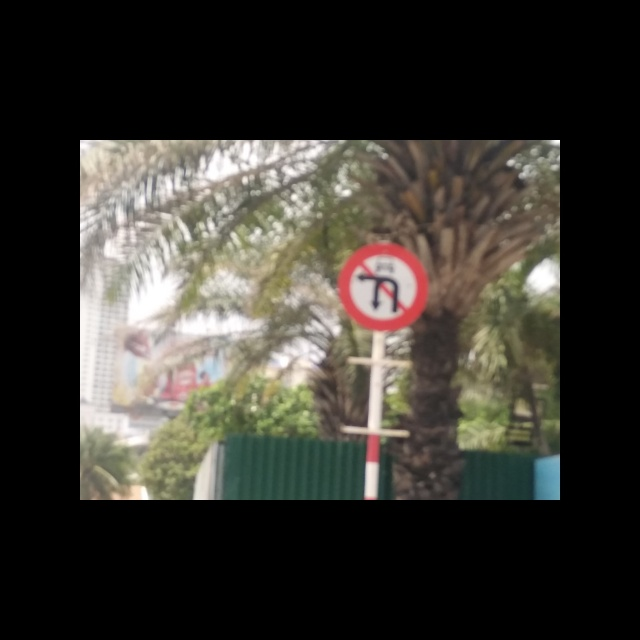Cấm xe ô tô quay đầu và rẽ trái: (337, 242, 428, 328)
